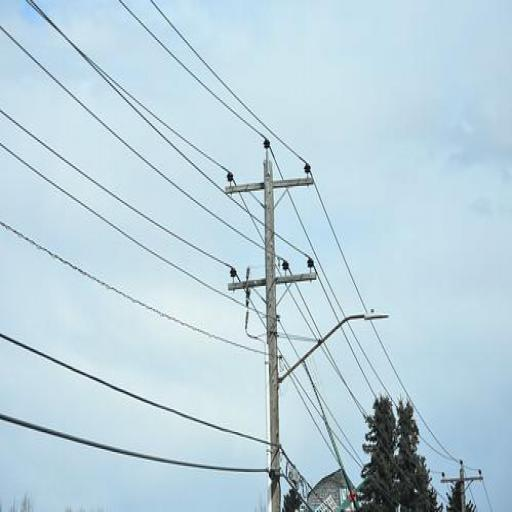mono_8: (222, 140, 319, 510)
